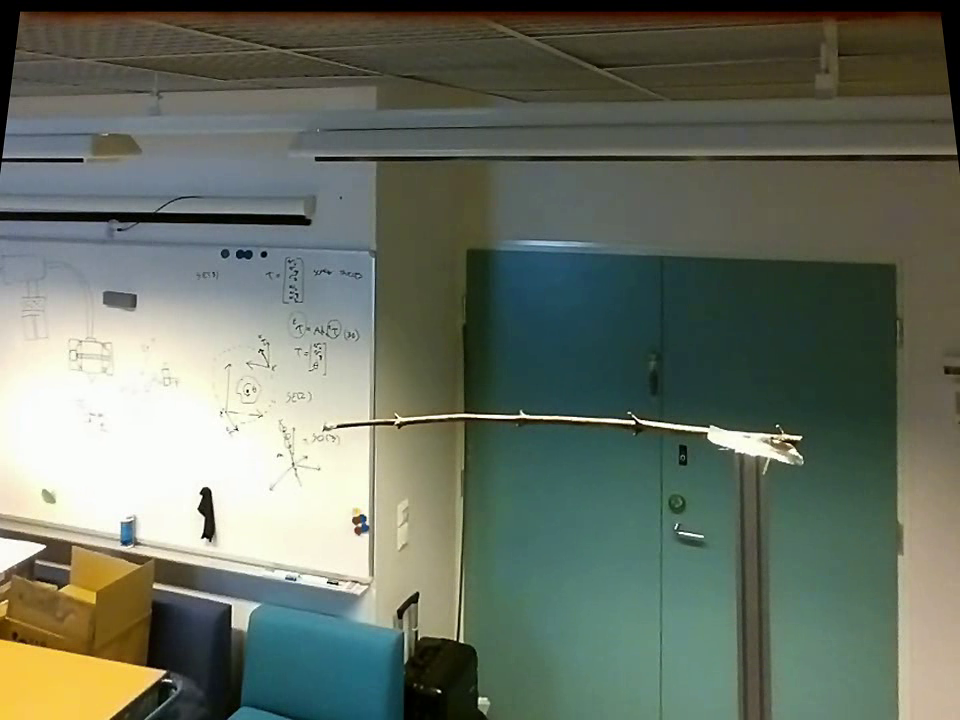aluminum_frame: (2, 509, 379, 599), (725, 454, 776, 718), (0, 229, 377, 263), (360, 245, 379, 586)
branch: (337, 402, 705, 440)
